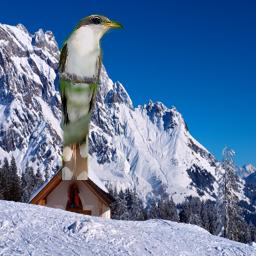Cuckoo: (57, 13, 124, 180)
